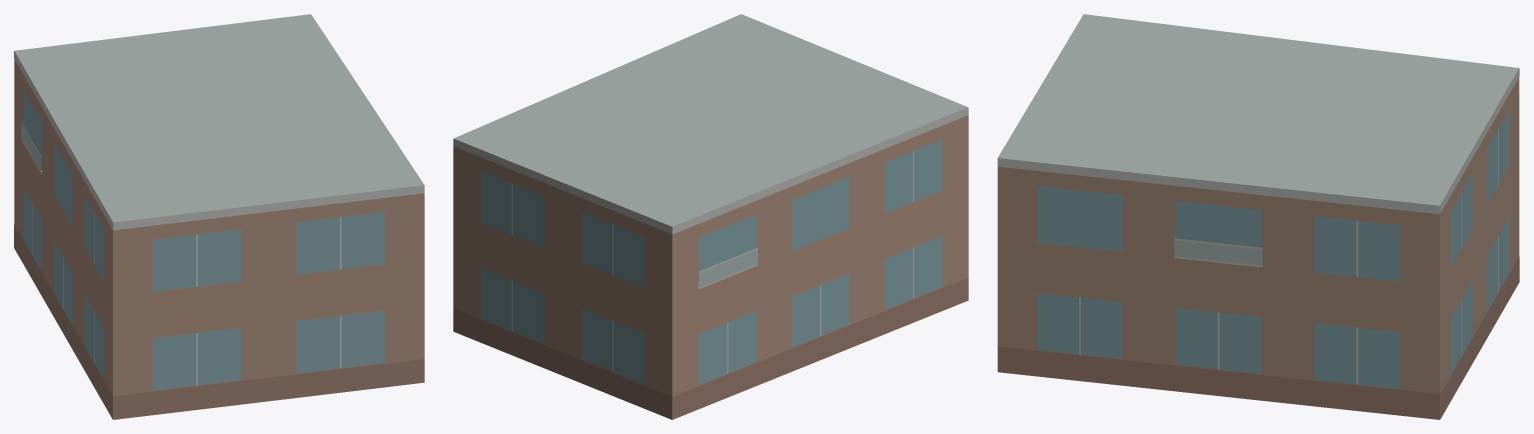
File: survey-upis-32799654.glb
3 views of the same model, side by side, from view 1: azimuth 30°, elevation 25°; view 2: azimuth 150°, elevation 25°; view 3: azimuth 270°, elevation 25° (orthographic). The views are drawn at different scales.
Visible parts, largest first — view 1: survey-upis-32799654.tmp; view 2: survey-upis-32799654.tmp; view 3: survey-upis-32799654.tmp.
Part boxes in pixels (x1,y1,x2,y2): survey-upis-32799654.tmp: [14, 14, 424, 419]; survey-upis-32799654.tmp: [453, 14, 968, 419]; survey-upis-32799654.tmp: [997, 14, 1519, 419].
Bounding box in the file's own units: 11.73 × 6.1 × 13.49.
